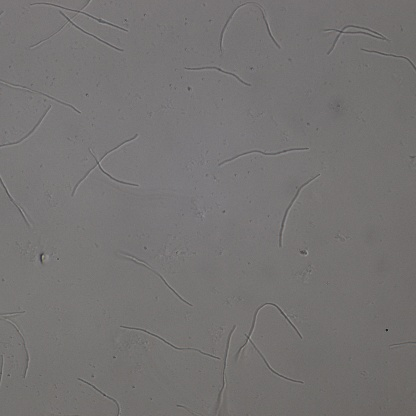Sensitive: (23, 1, 128, 54), (238, 302, 305, 384), (120, 251, 193, 308), (73, 134, 139, 196), (122, 322, 218, 359), (218, 1, 281, 53), (278, 174, 319, 248), (1, 79, 81, 114), (322, 21, 389, 56), (219, 144, 309, 166), (1, 108, 49, 148), (216, 325, 237, 414), (78, 378, 120, 416), (186, 65, 253, 87), (1, 179, 29, 228), (363, 48, 416, 72)
